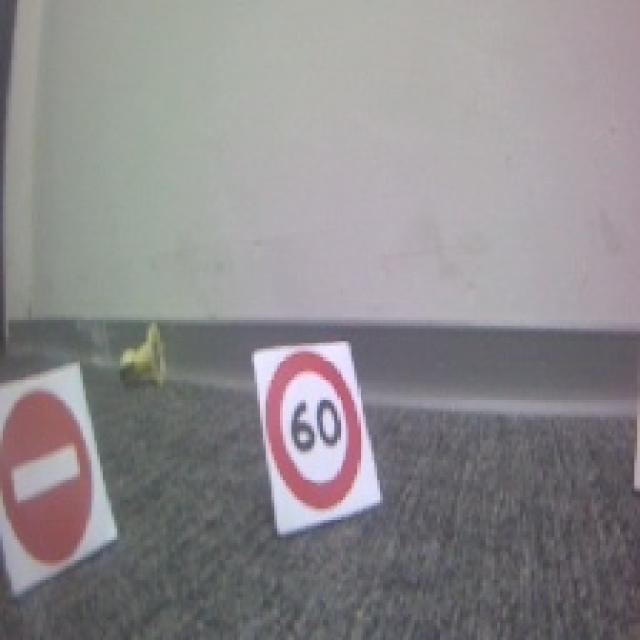DoNotEnterSign: (0, 388, 94, 567)
